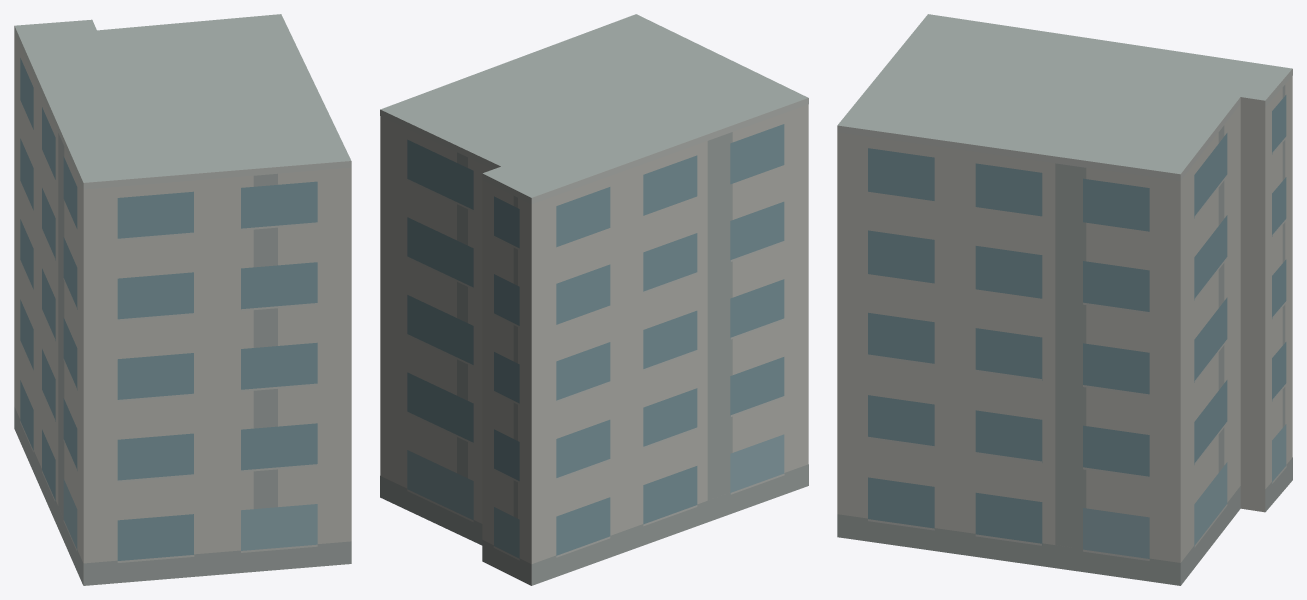
The model's file is survey-upis-32890002.glb.
The picture shows the model from 3 angles, left to right: view 1: azimuth 30°, elevation 25°; view 2: azimuth 150°, elevation 25°; view 3: azimuth 270°, elevation 25°; orthographic projection. The views are drawn at different scales.
Visible parts, largest first — view 1: survey-upis-32890002.tmp; view 2: survey-upis-32890002.tmp; view 3: survey-upis-32890002.tmp.
Part boxes in pixels (box(x1,y1,x2,y2)): survey-upis-32890002.tmp: box(14, 14, 351, 585); survey-upis-32890002.tmp: box(380, 14, 808, 585); survey-upis-32890002.tmp: box(837, 14, 1292, 585).
Size of the model in its own units: 12.03 by 14.4 by 14.45.
